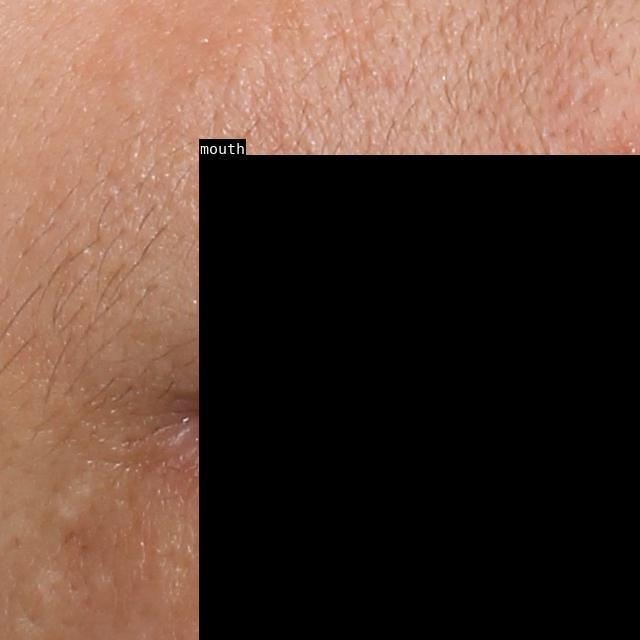hypertrophic_scar: (50, 478, 99, 536)
